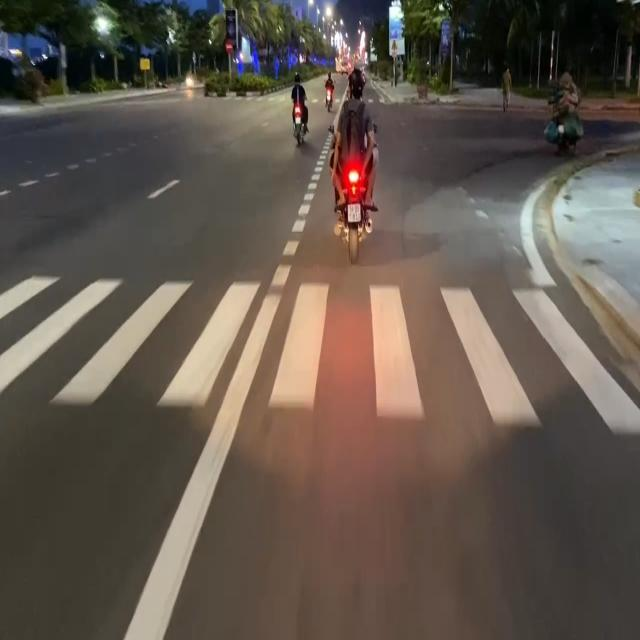walk-crossing: (0, 272, 640, 434)
